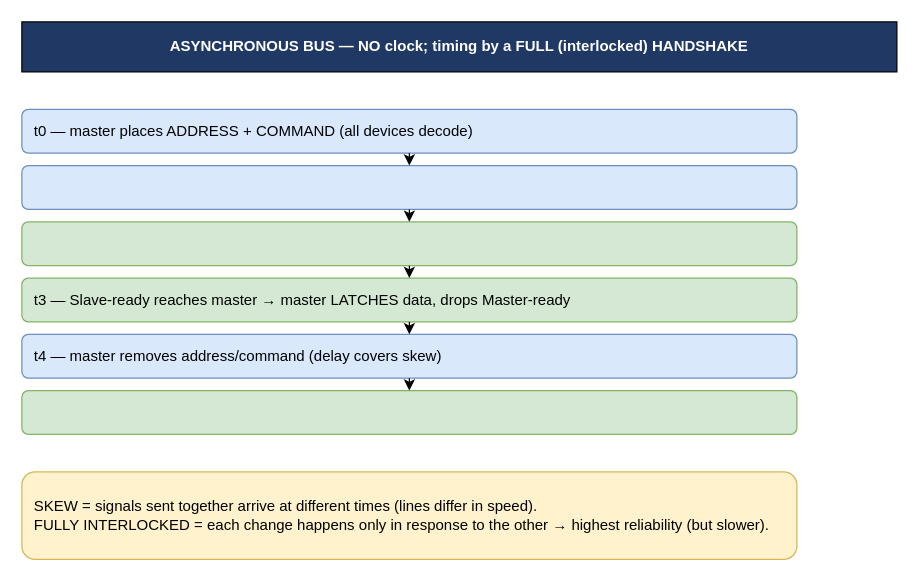
The diagram is 919 pixels wide and 581 high, and some of its shapes have lost their labels. The box of each missing label's shape, as (x1, y1, x2, y2) in pixels:
t1 — master asserts MASTER-READY (delay t1−t0 covers bus SKEW): (21, 164, 797, 209)
t2 — slave places DATA + asserts SLAVE-READY: (21, 221, 797, 266)
t5 — slave sees Master-ready LOW → removes data + drops Slave-ready → DONE: (21, 389, 797, 434)
